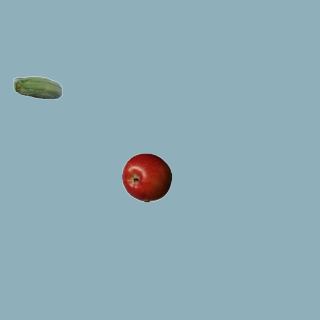Apple Braeburn: (121, 152, 171, 202)
Corn Husk: (12, 64, 62, 114)
